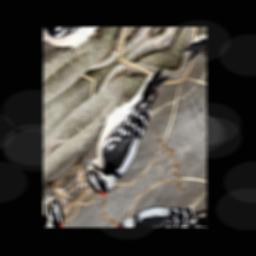Woodpecker: (69, 62, 190, 202)
